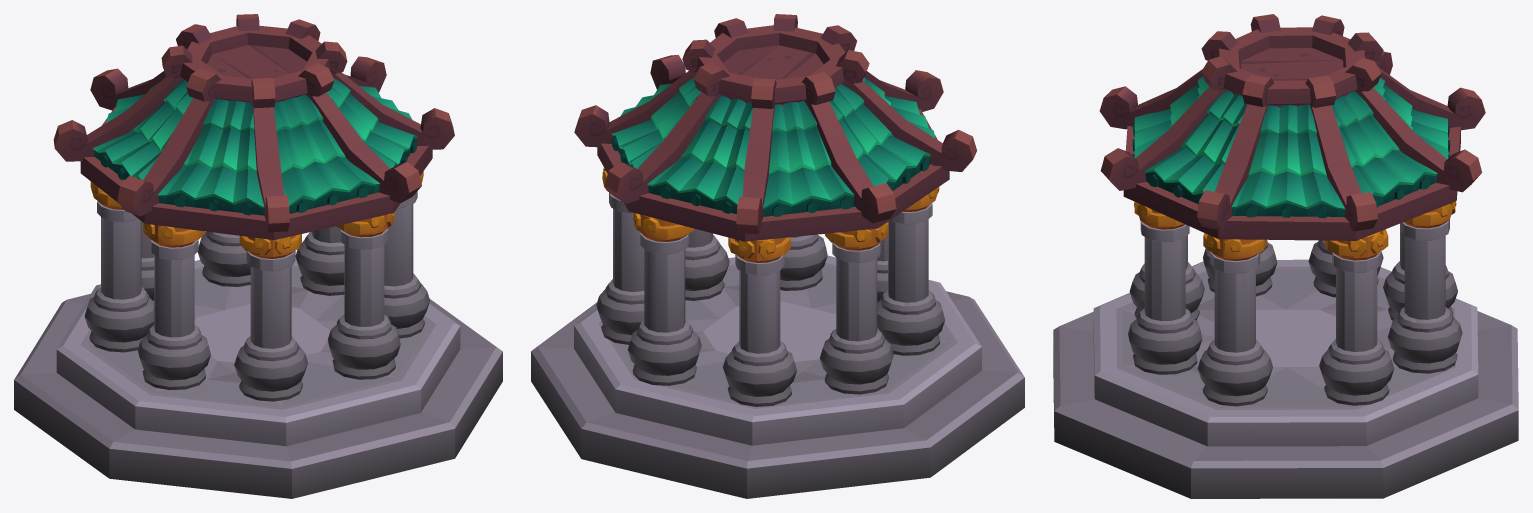
The model's file is altar2.glb.
The picture shows the model from 3 angles, left to right: view 1: azimuth 30°, elevation 25°; view 2: azimuth 150°, elevation 25°; view 3: azimuth 270°, elevation 25°; orthographic projection.
Visible parts, largest first — view 1: altar2; view 2: altar2; view 3: altar2.
Part boxes in pixels (box(x1,y1,x2,y2)): altar2: box(14, 14, 502, 498); altar2: box(531, 14, 1024, 498); altar2: box(1053, 14, 1518, 498).
Bounding box in the file's own units: 6.02 × 5.02 × 6.02.
Materials: 1 (1 with a texture image).
